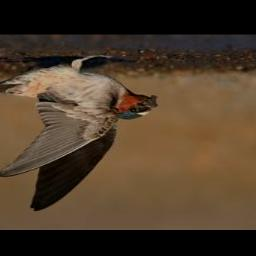Swallow: (0, 53, 159, 212)
